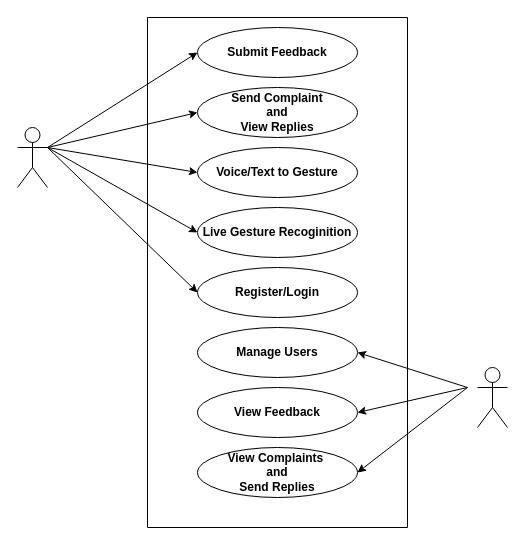
This 527x545 diagram has some shape labels left out. Each missing label, with the centre of its shape:
Admin: the point at 492,397
User: the point at 32,157
